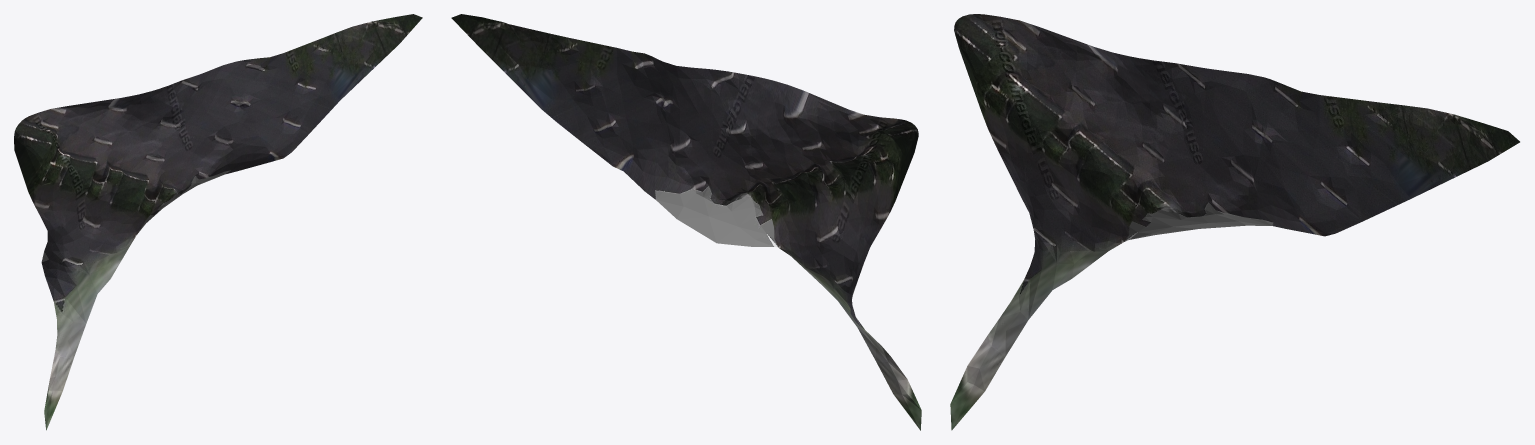
File: Tile_+002_+002.obj
3 views of the same model, side by side, from view 1: azimuth 30°, elevation 25°; view 2: azimuth 150°, elevation 25°; view 3: azimuth 330°, elevation 25° (orthographic). The views are drawn at different scales.
Bounding box in the file's own units: 42.37 × 29.54 × 6.45.
Materials: 1 (1 with a texture image).
